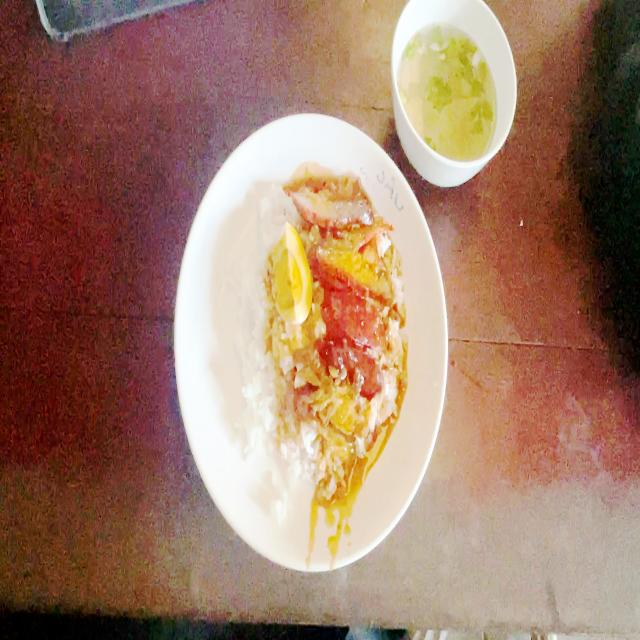boiled_egg: (270, 224, 310, 326)
chainese_sausage: (320, 285, 386, 386)
crispy_pork: (303, 380, 361, 458)
red_pork: (308, 179, 400, 287)
red_pork_and_crispy_pork: (226, 184, 403, 498)
rice: (232, 214, 268, 430), (256, 332, 302, 495), (256, 187, 291, 228)
